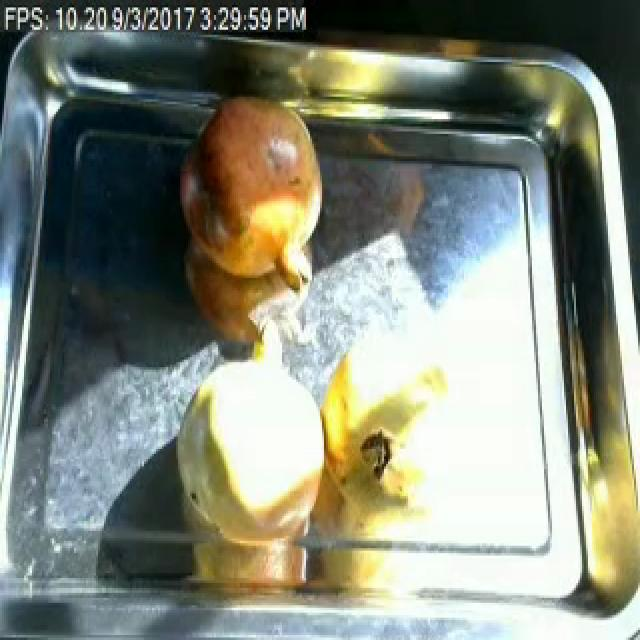fruit: (158, 333, 336, 563), (312, 330, 474, 531), (178, 84, 330, 298)
